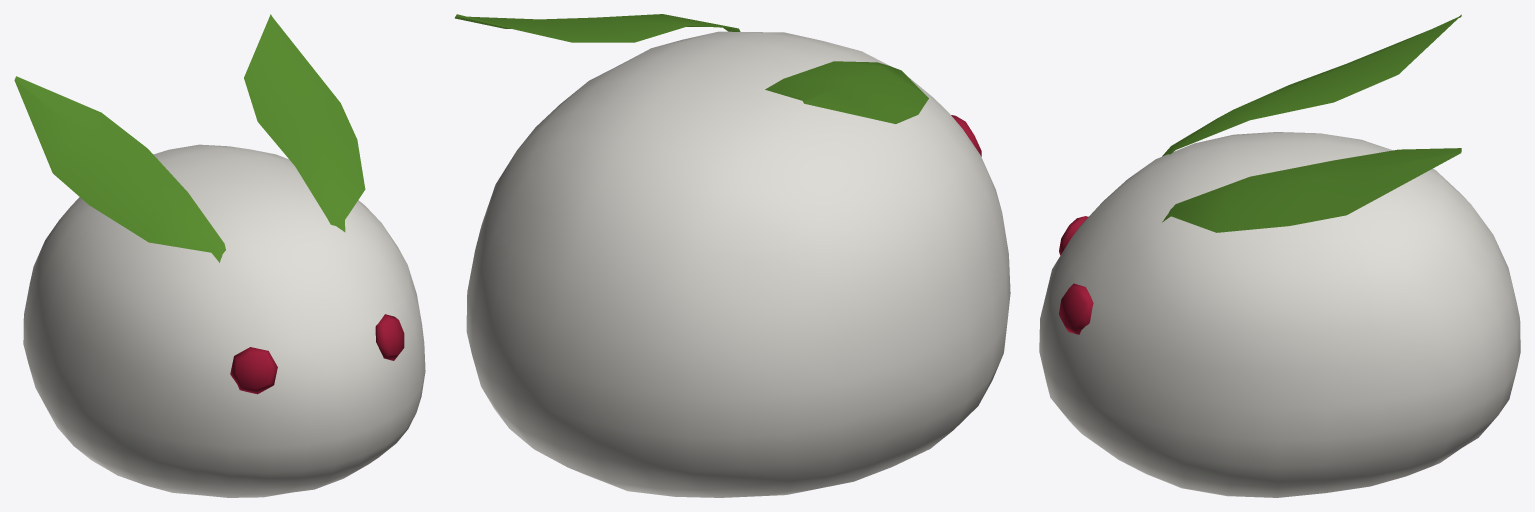
Rendered from RabbitNM111.fbx.
The picture shows the model from 3 angles, left to right: view 1: azimuth 30°, elevation 25°; view 2: azimuth 150°, elevation 25°; view 3: azimuth 270°, elevation 25°; orthographic projection. The views are drawn at different scales.
Parts seen in each view (by area): view 1: Cube, Plane, Cube.001; view 2: Cube, Plane; view 3: Cube, Plane, Cube.001.
Boxes of the visible parts, x1,y1,x2,y2 form: Cube: [23, 144, 425, 497]; Plane: [14, 14, 365, 262]; Cube.001: [230, 314, 404, 394]; Cube: [466, 31, 1010, 497]; Plane: [455, 14, 928, 123]; Cube: [1039, 132, 1520, 497]; Plane: [1162, 14, 1461, 232]; Cube.001: [1059, 216, 1093, 334].
Size of the model in its own units: 208 by 206 by 240.
